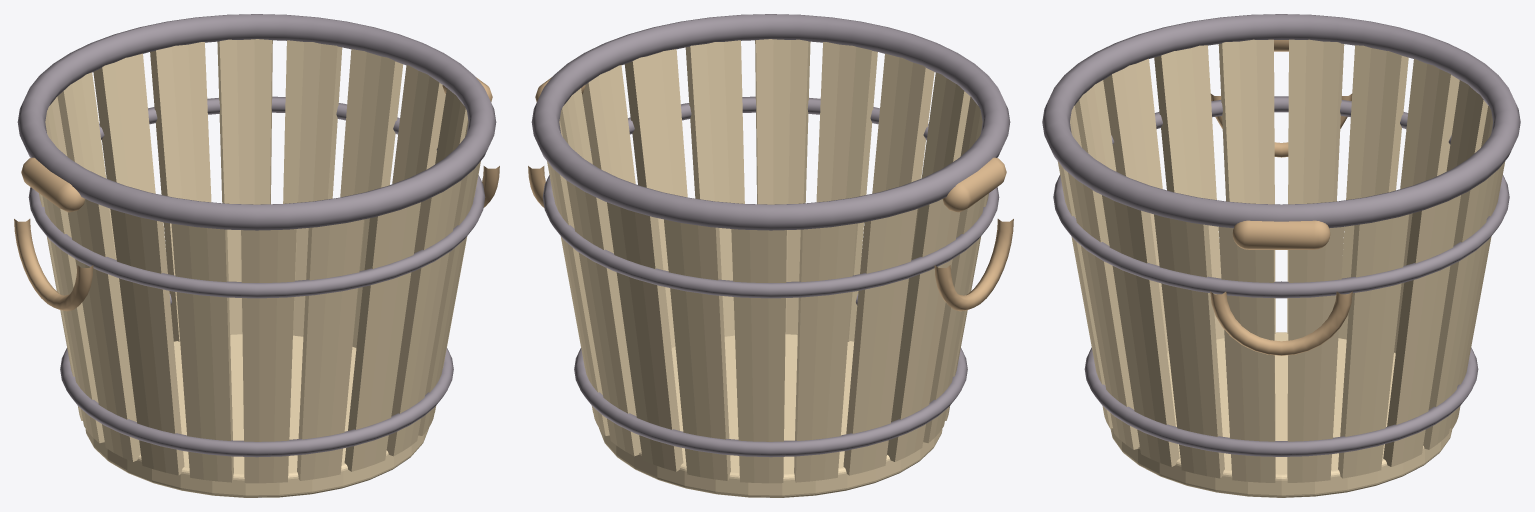
The model's file is BushelBasket.glb.
3 renders of one model, left to right at view 1: azimuth 30°, elevation 25°; view 2: azimuth 150°, elevation 25°; view 3: azimuth 270°, elevation 25°, orthographic.
Visible parts, largest first — view 1: BushelWood, BushelBands, BushelHandles; view 2: BushelWood, BushelBands, BushelHandles; view 3: BushelWood, BushelBands, BushelHandles.
Boxes of the visible parts, box(x1,y1,x2,y2) form: BushelWood: box(39, 39, 480, 497); BushelBands: box(17, 14, 496, 457); BushelHandles: box(14, 77, 499, 311); BushelWood: box(547, 39, 988, 497); BushelBands: box(531, 14, 1010, 457); BushelHandles: box(528, 77, 1013, 311); BushelWood: box(1057, 39, 1505, 497); BushelBands: box(1042, 14, 1520, 456); BushelHandles: box(1210, 40, 1352, 355).
Bounding box in the file's own units: 4.36 × 3.04 × 4.16.
